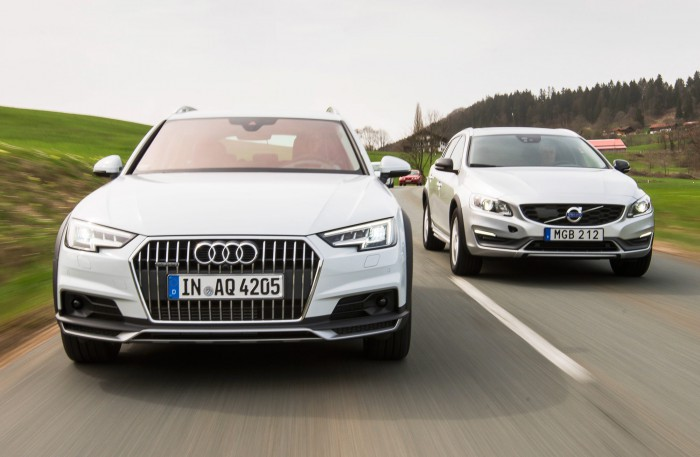car: (53, 107, 416, 363), (420, 123, 654, 280)
